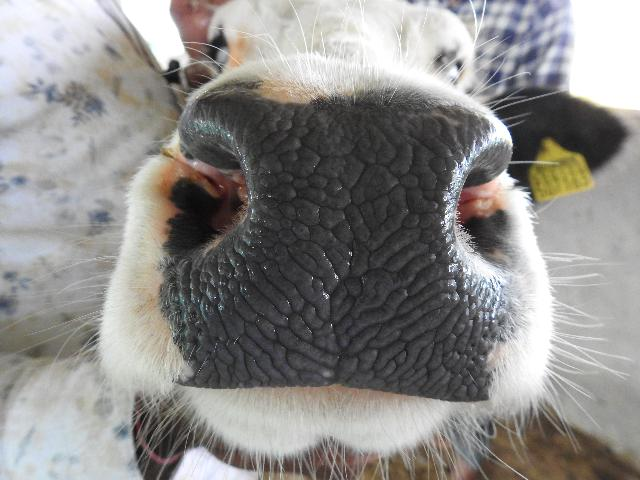Muzzle: (210, 90, 486, 381)
